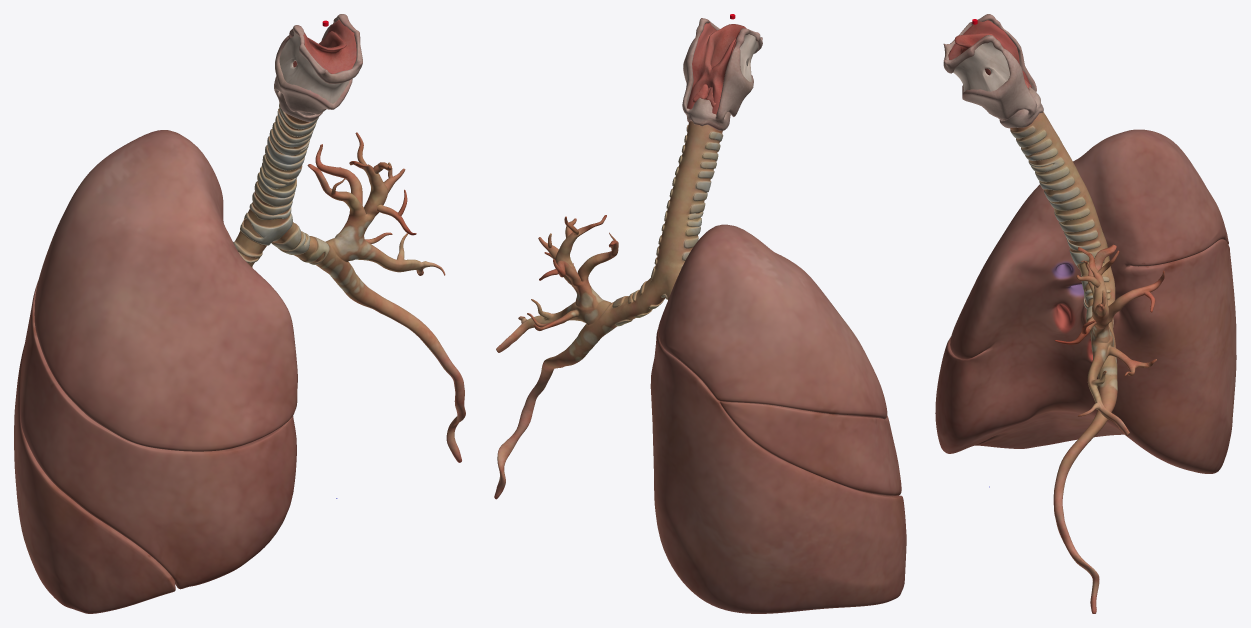
The model's file is sample.glb.
3 renders of one model, left to right at view 1: azimuth 30°, elevation 25°; view 2: azimuth 150°, elevation 25°; view 3: azimuth 270°, elevation 25°, orthographic. The views are drawn at different scales.
Parts seen in each view (by area): view 1: obj1, obj2, obj7, obj4, obj5; view 2: obj1, obj2, obj7, obj4, obj5; view 3: obj1, obj2, obj7, obj5, obj4.
Part boxes in pixels (x1=…): obj1: x1=14, y1=130, x2=297, y2=613; obj2: x1=233, y1=103, x2=465, y2=462; obj7: x1=274, y1=14, x2=362, y2=121; obj4: x1=293, y1=20, x2=356, y2=73; obj5: x1=279, y1=31, x2=349, y2=103; obj1: x1=650, y1=224, x2=906, y2=613; obj2: x1=494, y1=121, x2=723, y2=499; obj7: x1=682, y1=18, x2=762, y2=130; obj4: x1=687, y1=22, x2=746, y2=114; obj5: x1=704, y1=24, x2=758, y2=81; obj1: x1=935, y1=129, x2=1236, y2=473; obj2: x1=1010, y1=111, x2=1164, y2=613; obj7: x1=943, y1=14, x2=1043, y2=128; obj5: x1=953, y1=21, x2=1009, y2=91; obj4: x1=948, y1=20, x2=1029, y2=83.
Size of the model in its own units: 16.57 by 20.48 by 10.63.
Materials: 20 (3 with a texture image).
